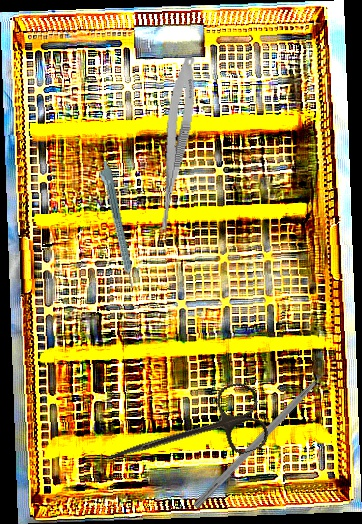Chopper: (191, 358, 346, 518)
Handpiece: (95, 159, 137, 291)
Iris Scissors: (97, 378, 272, 495)
Micro Scissor: (152, 55, 201, 244)
